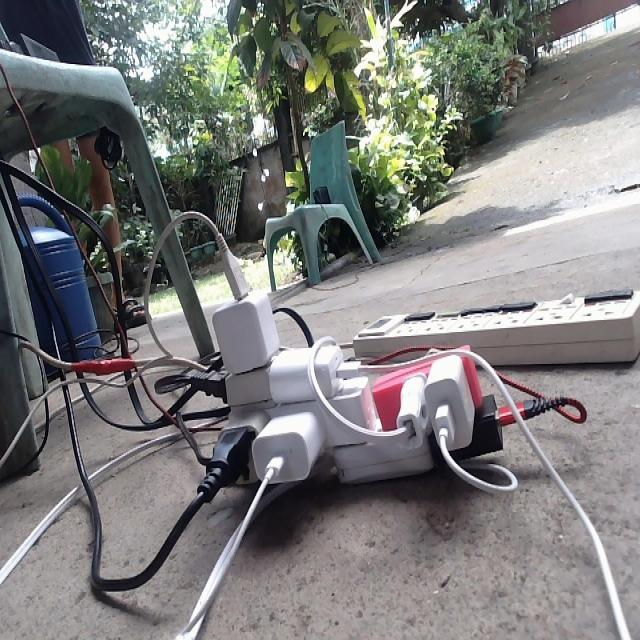-: (185, 276, 516, 499)
